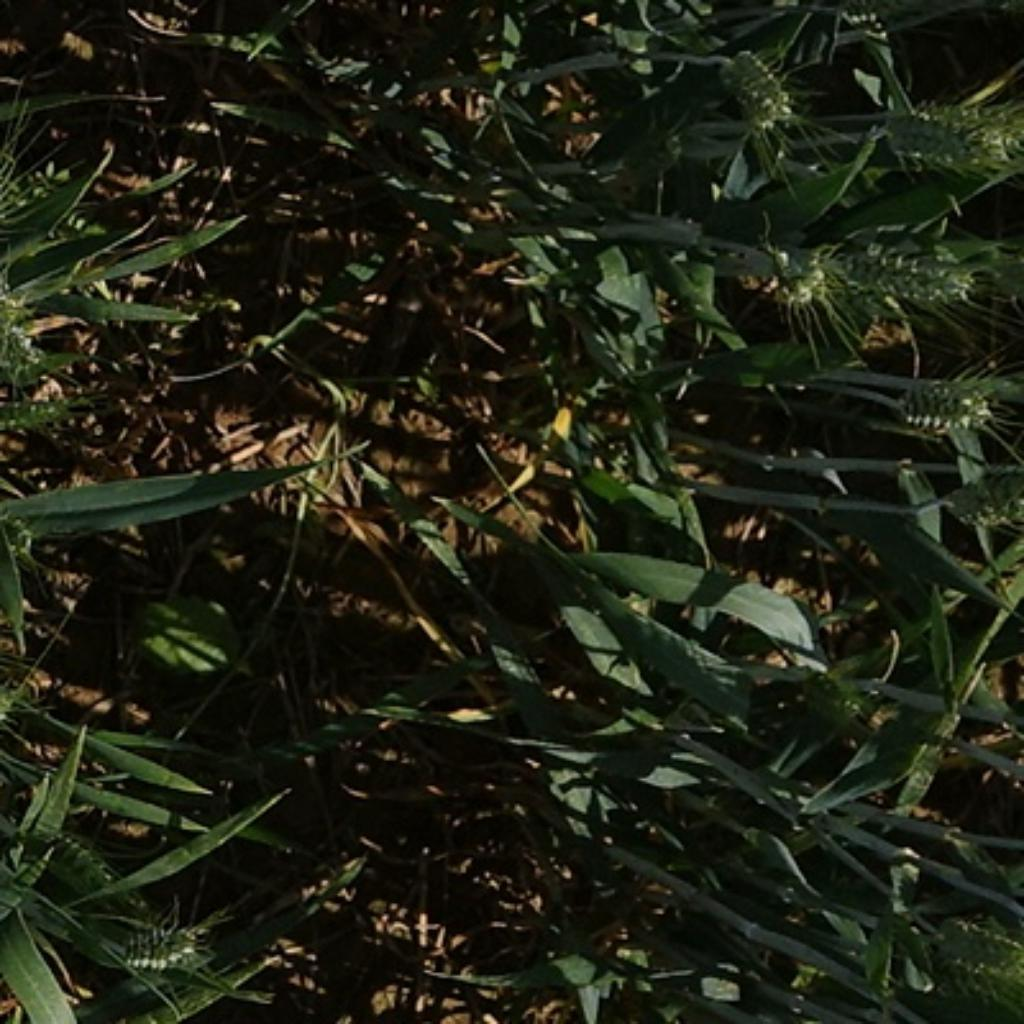0-0: (819, 227, 983, 312), (875, 97, 1024, 171), (930, 912, 1024, 1013), (739, 227, 842, 317), (709, 40, 801, 140), (14, 827, 125, 904), (886, 382, 1001, 449), (112, 908, 212, 983), (936, 461, 1024, 540), (0, 271, 46, 386), (0, 384, 76, 452)
